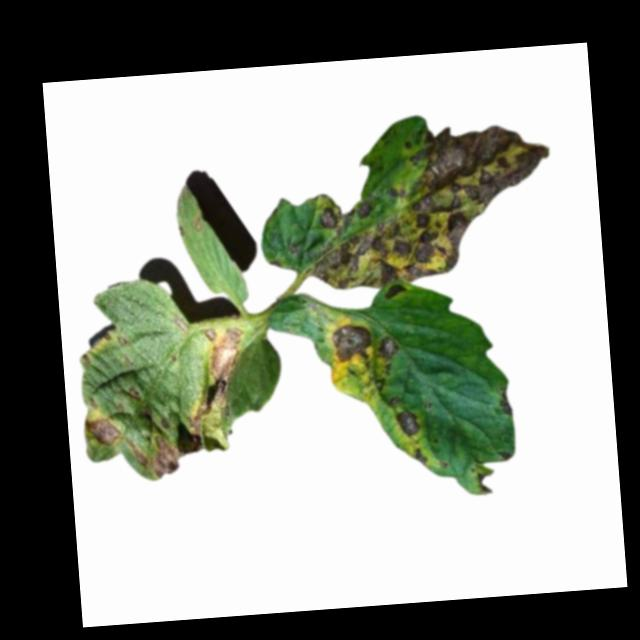Early_blight: (298, 119, 558, 292), (201, 324, 249, 406), (124, 433, 182, 480), (327, 323, 371, 362), (85, 416, 121, 448), (393, 409, 421, 439), (497, 386, 514, 420), (377, 335, 400, 359), (384, 283, 408, 302), (477, 473, 495, 494), (415, 447, 428, 465), (127, 387, 141, 402)
